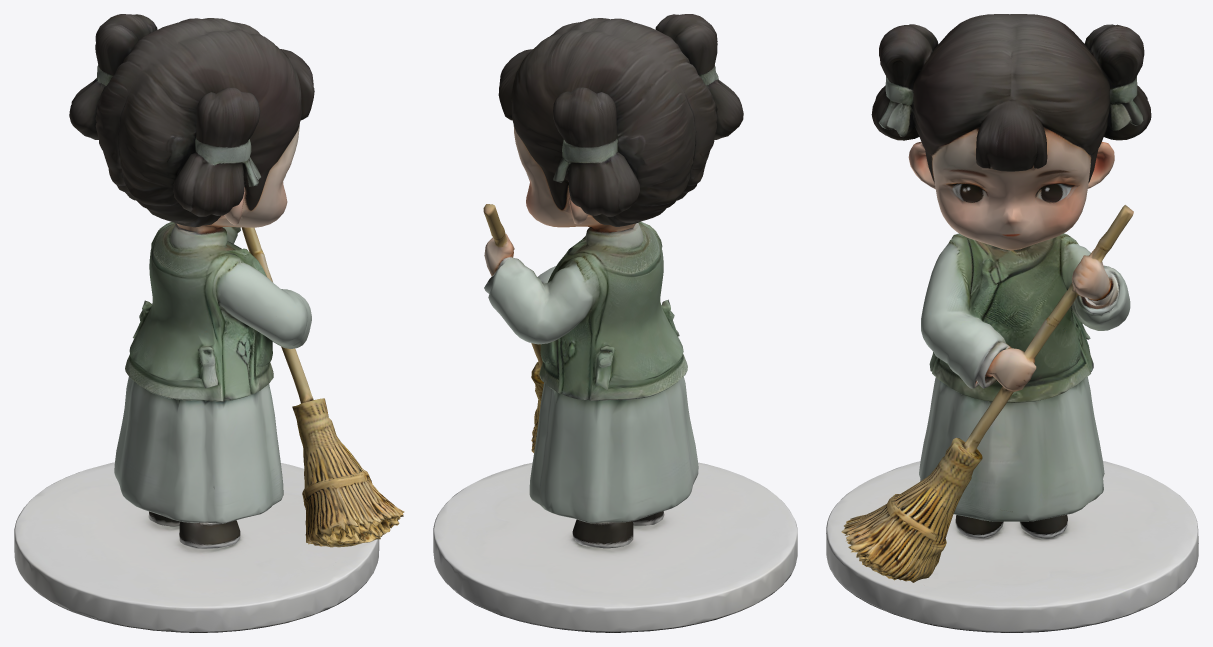
Rendered from yahuan_sweep.glb.
The picture shows the model from 3 angles, left to right: view 1: azimuth 30°, elevation 25°; view 2: azimuth 150°, elevation 25°; view 3: azimuth 270°, elevation 25°; orthographic projection.
Visible parts, largest first — view 1: tripo_node_f5180735-abd4-40b3-a58e-d31a04649de5; view 2: tripo_node_f5180735-abd4-40b3-a58e-d31a04649de5; view 3: tripo_node_f5180735-abd4-40b3-a58e-d31a04649de5.
Part boxes in pixels (<box>): tripo_node_f5180735-abd4-40b3-a58e-d31a04649de5: <box>14,14,404,632</box>; tripo_node_f5180735-abd4-40b3-a58e-d31a04649de5: <box>433,14,797,632</box>; tripo_node_f5180735-abd4-40b3-a58e-d31a04649de5: <box>826,14,1198,632</box>.
Size of the model in its own units: 0.6276 by 1 by 0.6292.
1 material, 1 textured.
